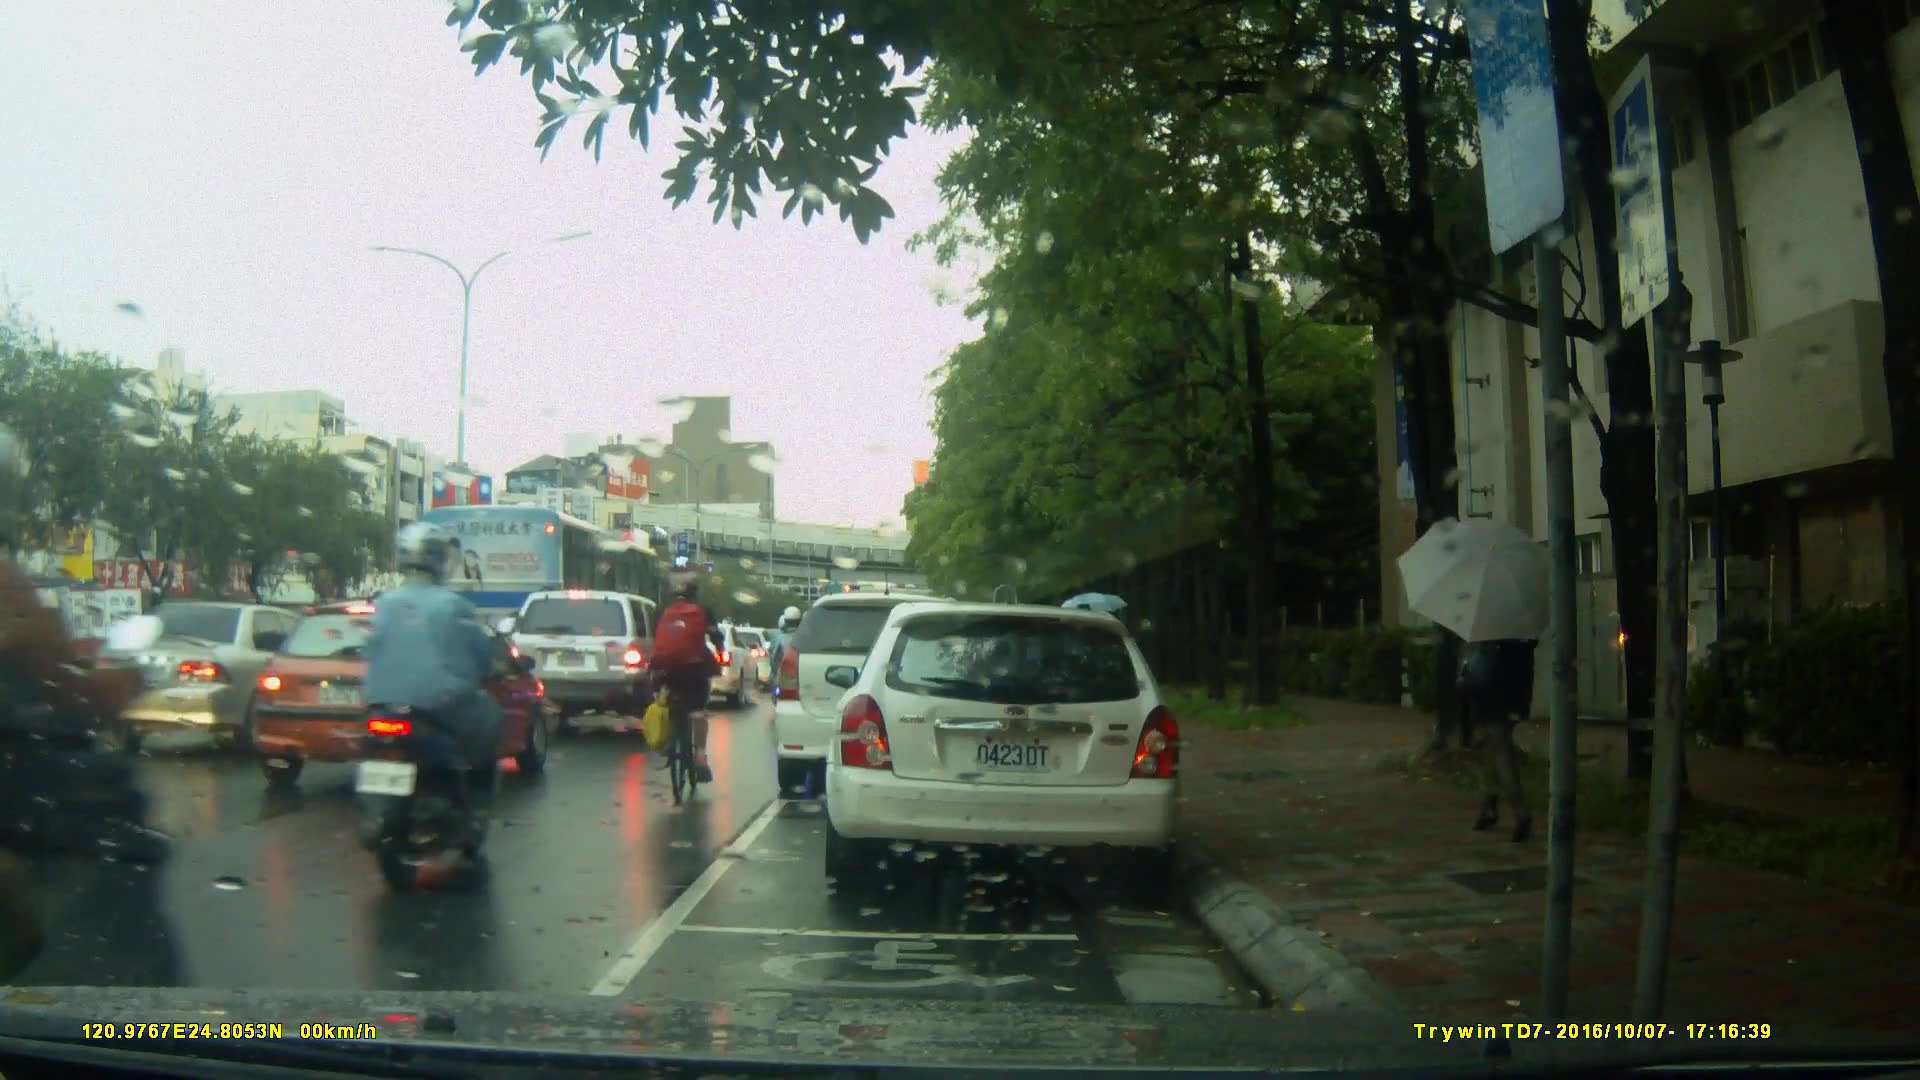pedestrian: (1446, 533, 1574, 849)
rider: (1, 396, 190, 1080), (342, 522, 497, 882), (646, 576, 734, 798), (777, 598, 817, 732)
vehicle: (835, 594, 1194, 898), (234, 597, 550, 803), (380, 491, 678, 700), (776, 590, 1026, 784), (79, 599, 346, 757), (495, 586, 695, 733), (1, 586, 157, 697)
